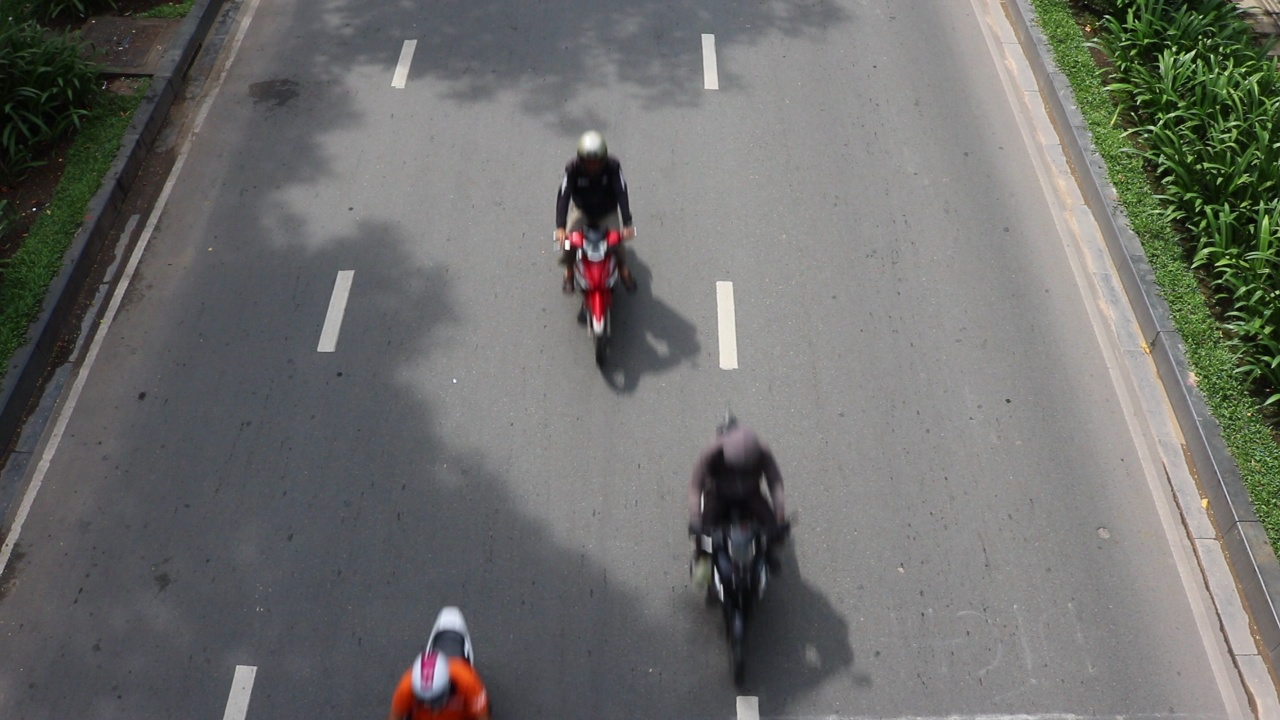motorcycle: (686, 505, 786, 660), (557, 224, 637, 391)
